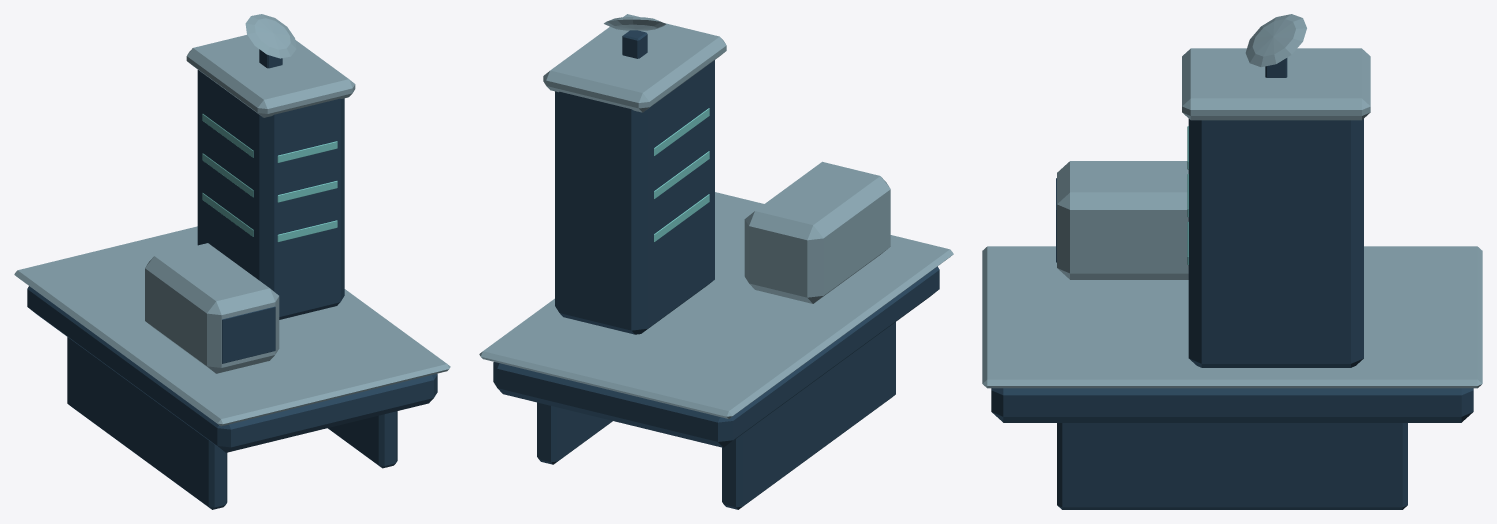
File: lunar-relay.glb
3 views of the same model, side by side, from view 1: azimuth 30°, elevation 25°; view 2: azimuth 150°, elevation 25°; view 3: azimuth 270°, elevation 25° (orthographic). The views are drawn at different scales.
Visible parts, largest first — view 1: dock chassis, landing apron, front inset glass; view 2: dock chassis, landing apron, front inset glass; view 3: dock chassis, landing apron.
Part boxes in pixels (box(x1,y1,x2,y2)): dock chassis: box(27, 49, 437, 509); landing apron: box(14, 14, 450, 426); front inset glass: box(202, 114, 337, 242); dock chassis: box(493, 30, 939, 509); landing apron: box(479, 14, 953, 418); front inset glass: box(654, 108, 709, 242); dock chassis: box(991, 58, 1473, 509); landing apron: box(982, 14, 1482, 388).
Bounding box in the file's own units: 7.4 × 11.74 × 11.4.
